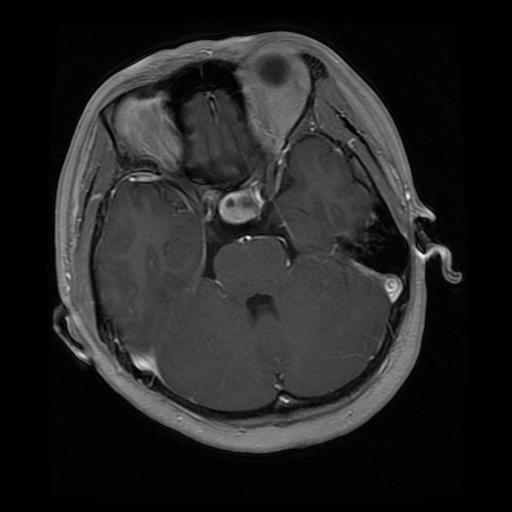Pituirity_tumour: (218, 187, 262, 223)
